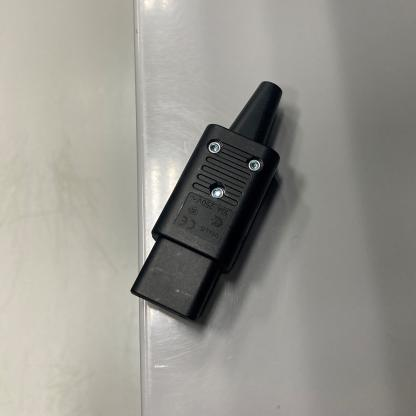SP0000006: (110, 51, 327, 352)
